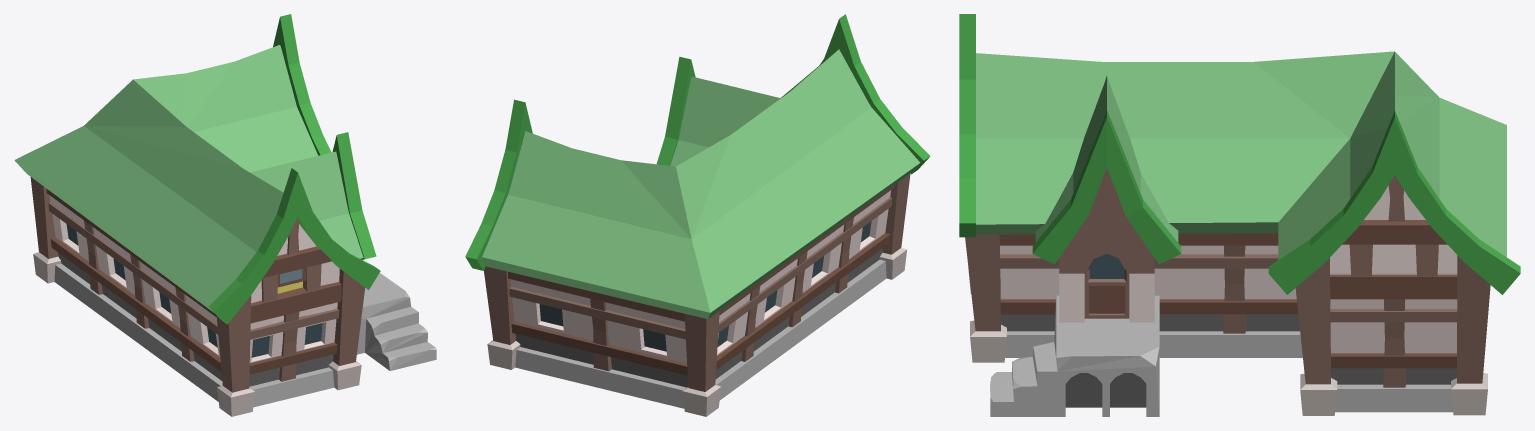
File: building_015.fbx
3 views of the same model, side by side, from view 1: azimuth 30°, elevation 25°; view 2: azimuth 150°, elevation 25°; view 3: azimuth 270°, elevation 25° (orthographic). The views are drawn at different scales.
Visible parts, largest first — view 1: building.015; view 2: building.015; view 3: building.015.
Boxes of the visible parts, x1=… form: building.015: x1=14, y1=14, x2=436, y2=416; building.015: x1=465, y1=14, x2=930, y2=416; building.015: x1=959, y1=14, x2=1520, y2=416.
Bounding box in the file's own units: 1561 × 1435 × 2385.
1 material, 1 textured.
